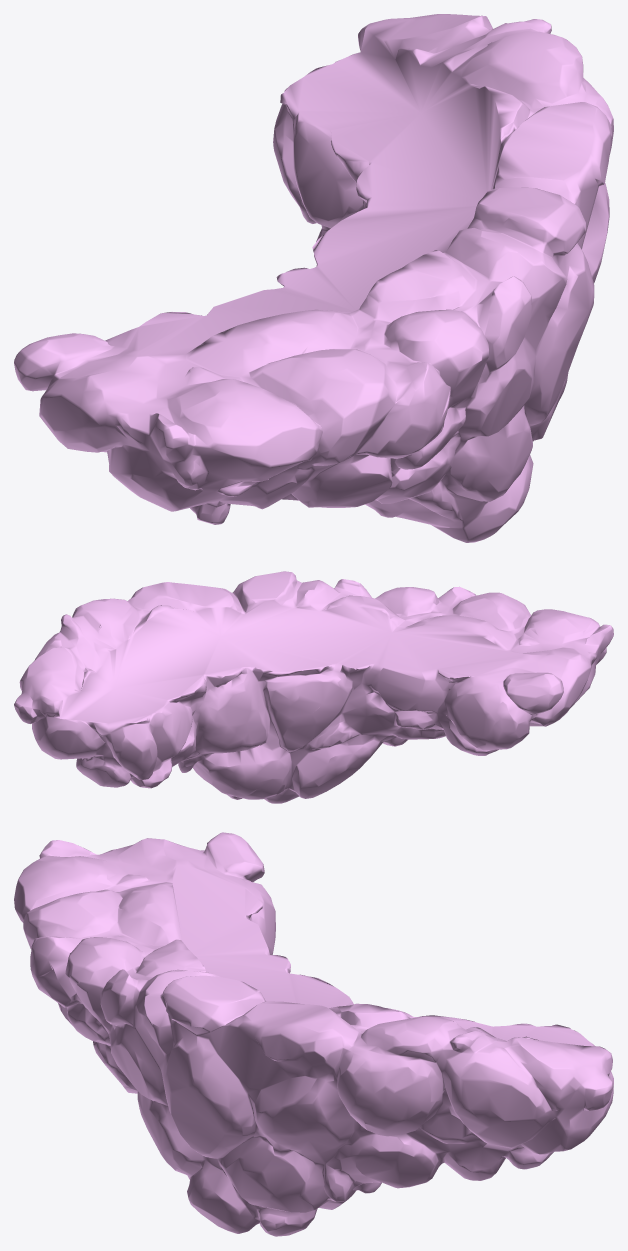
The model's file is island_8_LOD2.fbx.
3 views of the same model, one above another, from view 1: azimuth 30°, elevation 25°; view 2: azimuth 150°, elevation 25°; view 3: azimuth 270°, elevation 25° (orthographic). The views are drawn at different scales.
Visible parts, largest first — view 1: island_8_LOD2; view 2: island_8_LOD2; view 3: island_8_LOD2.
Boxes of the visible parts, <box> form: island_8_LOD2: <box>14,14,613,542</box>; island_8_LOD2: <box>14,571,613,803</box>; island_8_LOD2: <box>14,832,613,1236</box>.
Bounding box in the file's own units: 2108 × 1031 × 2064.
